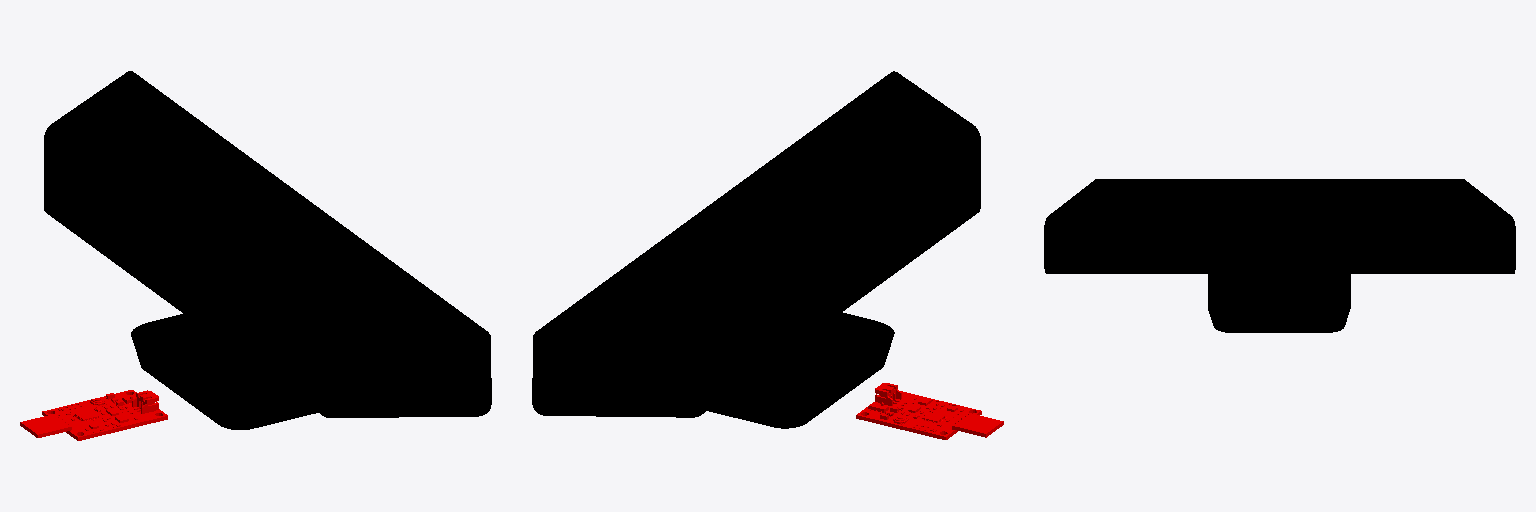
The robot description file, URDF, robot "cambot":
<!-- description of the Canyonero robot, a robotics project for the UVic-UCC master -->
<robot name = "cambot">

	<!-- BASE-FOOTPRINT -->
	<!-- base_footprint is a fictitious link(frame) that is on the ground right below base_link origin, navigation stack depends on this frame -->
	<link name = "base_footprint"/>

	<joint name = "base_footprint_joint" type = "fixed">
		<parent link = "base_footprint"/>
		<child link = "base_link"/>
		<origin xyz = "0 0 1.67" rpy = "0 0 0"/>
	</joint>

	<!-- BASE-LINK -->
    <!--Actual body/chassis of the robot-->
	<link name = "base_link">
		<visual>
			<origin xyz = "0 0 0" rpy = "0 0 0"/>
			<geometry>
				<mesh filename = "package://canyonero_description/meshes/canyonero_plates.stl"/>
			</geometry>
			<material name = "cambot/red">
				<color rgba = "1.0 0.0 0.0 1"/>
			</material>
		</visual>
		<!--collision>
      		<origin xyz = "0 0 0.12" rpy = "1.57 0 3.14"/>
      		<geometry>
        		<mesh filename = "package://cambot_description/meshes/cambot_base_collision.stl" scale="0.01 0.01 0.01"/>
      		</geometry>
    	</collision-->
		<inertial>
      		<origin rpy = "0 0 0" xyz = "174.84e-3 117.51e-3 -218.86e-3"/>
      		<mass value = "15.23"/>
      		<!-- inertia at cm or origin?-->
      		<inertia ixx = "0.016258"
               		 ixy = "0.000432"
               		 ixz="-0.000049"
               		 iyy="0.019275"
               		 iyz="0.000048"
               		 izz="0.016834"/>
    	</inertial>
	</link>

	<!-- WHEEL-JOINTS -->
	<joint name = "base_to_frontal_left_wheel" type = "continuous">
		<parent link = "base_link"/>
		<child link = "frontal_left_wheel_link"/>
		<origin xyz = "1.62 1.65 -0.68" rpy = "-1.57 0 0"/>
		<axis xyz = "0 0 1"/>
	</joint>

	<joint name = "base_to_frontal_right_wheel" type = "continuous">
		<parent link = "base_link"/>
		<child link = "frontal_right_wheel_link"/>
		<origin xyz = "1.62 -1.65 -0.68" rpy = "1.57 0 0"/>
		<axis xyz = "0 0 1"/>
	</joint>

	<joint name = "base_to_back_left_wheel" type = "continuous">
		<parent link = "base_link"/>
		<child link = "back_left_wheel_link"/>
		<origin xyz = "-1.62 1.65 -0.68" rpy = "-1.57 0 0"/>
		<axis xyz = "0 0 1"/>
	</joint>

	<joint name = "base_to_back_right_wheel" type = "continuous">
		<parent link = "base_link"/>
		<child link = "back_right_wheel_link"/>
		<origin xyz = "-1.62 -1.65 -0.68" rpy = "1.57 0 0"/>
		<axis xyz = "0 0 1"/>
	</joint>

	<!-- KINECT-JOINT -->
	<joint name = "base_link_to_kinect" type = "fixed">
		<parent link = "base_link" />
		<child link = "kinect_link" />
		<origin xyz = "2.62 0 1.41" rpy = "0 0 0"/>
	</joint>

	<!-- IMU-JOINT -->
	<joint name = "base_link_to_imu" type = "fixed">
		<parent link = "base_link" />
		<child link = "imu_link" />
		<origin xyz = "1.885 0 1.08" rpy = "0 0 -1.57"/>
	</joint>

	<!-- WHEEL-LINKS -->
    <!--Actual wheels of the robot-->

	<link name = "frontal_left_wheel_link">
		<visual>
			<origin xyz = "0 0 0" rpy = "0 -1.57 0"/>
			<geometry>
				<mesh filename = "package://canyonero_description/meshes/canyonero_wheel.stl"/>
			</geometry>
			<material name = "cambot/black">
				<color rgba = "0.0 0.0 0.0 1.0"/>
			</material>
		</visual>
		<!--collision>
      		<origin xyz = "0 0 0.12" rpy = "1.57 0 3.14"/>
      		<geometry>
        		<mesh filename = "package://cambot_description/meshes/cambot_base_collision.stl" scale="0.01 0.01 0.01"/>
      		</geometry>
    	</collision-->
		<inertial>
      		<origin rpy = "0 0 0" xyz = "40.51e-3 38.66e-3 -54.98e-3"/>
      		<mass value = "15.23"/>
      		<!-- inertia at cm or origin?-->
      		<inertia ixx = "0.016258"
               		 ixy = "0.000432"
               		 ixz="-0.000049"
               		 iyy="0.019275"
               		 iyz="0.000048"
               		 izz="0.016834"/>
    	</inertial>
	</link>

	<link name = "frontal_right_wheel_link">
		<visual>
			<origin xyz = "0 0 0" rpy = "0 -1.57 0"/>
			<geometry>
				<mesh filename = "package://canyonero_description/meshes/canyonero_wheel.stl"/>
			</geometry>
			<material name = "cambot/black">
				<color rgba = "0.0 0.0 0.0 1.0"/>
			</material>
		</visual>
		<!--collision>
      		<origin xyz = "0 0 0.12" rpy = "1.57 0 3.14"/>
      		<geometry>
        		<mesh filename = "package://cambot_description/meshes/cambot_base_collision.stl" scale="0.01 0.01 0.01"/>
      		</geometry>
    	</collision-->
		<inertial>
      		<origin rpy = "0 0 0" xyz = "40.51e-3 38.66e-3 -54.98e-3"/>
      		<mass value = "15.23"/>
      		<!-- inertia at cm or origin?-->
      		<inertia ixx = "0.016258"
               		 ixy = "0.000432"
               		 ixz="-0.000049"
               		 iyy="0.019275"
               		 iyz="0.000048"
               		 izz="0.016834"/>
    	</inertial>
	</link>

	<link name = "back_left_wheel_link">
		<visual>
			<origin xyz = "0 0 0" rpy = "0 -1.57 0"/>
			<geometry>
				<mesh filename = "package://canyonero_description/meshes/canyonero_wheel.stl"/>
			</geometry>
			<material name = "cambot/black">
				<color rgba = "0.0 0.0 0.0 1.0"/>
			</material>
		</visual>
		<!--collision>
      		<origin xyz = "0 0 0.12" rpy = "1.57 0 3.14"/>
      		<geometry>
        		<mesh filename = "package://cambot_description/meshes/cambot_base_collision.stl" scale="0.01 0.01 0.01"/>
      		</geometry>
    	</collision-->
		<inertial>
      		<origin rpy = "0 0 0" xyz = "40.51e-3 38.66e-3 -54.98e-3"/>
      		<mass value = "15.23"/>
      		<!-- inertia at cm or origin?-->
      		<inertia ixx = "0.016258"
               		 ixy = "0.000432"
               		 ixz="-0.000049"
               		 iyy="0.019275"
               		 iyz="0.000048"
               		 izz="0.016834"/>
    	</inertial>
	</link>

	<link name = "back_right_wheel_link">
		<visual>
			<origin xyz = "0 0 0" rpy = "0 -1.57 0"/>
			<geometry>
				<mesh filename = "package://canyonero_description/meshes/canyonero_wheel.stl"/>
			</geometry>
			<material name = "cambot/black">
				<color rgba = "0.0 0.0 0.0 1.0"/>
			</material>
		</visual>
		<!--collision>
      		<origin xyz = "0 0 0.12" rpy = "1.57 0 3.14"/>
      		<geometry>
        		<mesh filename = "package://cambot_description/meshes/cambot_base_collision.stl" scale="0.01 0.01 0.01"/>
      		</geometry>
    	</collision-->
		<inertial>
      		<origin rpy = "0 0 0" xyz = "40.51e-3 38.66e-3 -54.98e-3"/>
      		<mass value = "15.23"/>
      		<!-- inertia at cm or origin?-->
      		<inertia ixx = "0.016258"
               		 ixy = "0.000432"
               		 ixz="-0.000049"
               		 iyy="0.019275"
               		 iyz="0.000048"
               		 izz="0.016834"/>
    	</inertial>
	</link>

	<!-- KINECT-LINK -->
	<!-- Actual kinect of the robot -->
	<link name = "kinect_link">
		<visual>
			<origin xyz = "0 0 0" rpy = "1.57 0 1.57" />
			<geometry>
				<mesh filename = "package://canyonero_description/meshes/kinect.stl"/>
			</geometry>
			<material name = "cambot/black">
				<color rgba = "0.0 0.0 0.0 1.0" />
			</material>
		</visual>
		<!--collision>
      		<origin xyz = "0 0 0.12" rpy = "1.57 0 3.14"/>
      		<geometry>
        		<mesh filename = "package://cambot_description/meshes/cambot_base_collision.stl" scale="0.01 0.01 0.01"/>
      		</geometry>
    	</collision-->
		<inertial>
      		<origin rpy = "0 0 0" xyz = "7.035e-3 -70.134e-3 -87.744e-3"/>
      		<mass value = "0.0458425"/>
      		<inertia ixx = "0.001351"
               ixy = "0.000000"
               ixz="0.000000"
               iyy="0.000886"
               iyz="-0.000026"
               izz="0.001635"/>
    	</inertial>
	</link>

	<!-- IMU-LINK -->
	<!-- Actual imu of the robot -->
	<link name = "imu_link">
		<visual>
			<origin xyz = "0 0 0" rpy = "0 0 0" />
			<geometry>
				<mesh filename = "package://canyonero_description/meshes/9dof_razor_imu.stl"/>
			</geometry>
			<material name = "cambot/vermell">
				<color rgba = "1.0 0.0 0.0 1.0" />
			</material>
		</visual>
		<!--collision>
      		<origin xyz = "0 0 0.12" rpy = "1.57 0 3.14"/>
      		<geometry>
        		<mesh filename = "package://cambot_description/meshes/cambot_base_collision.stl" scale="0.01 0.01 0.01"/>
      		</geometry>
    	</collision-->
		<inertial>
      		<origin rpy = "0 0 0" xyz = "7.035e-3 -70.134e-3 -87.744e-3"/>
      		<mass value = "0.0458425"/>
      		<inertia ixx = "0.001351"
               ixy = "0.000000"
               ixz="0.000000"
               iyy="0.000886"
               iyz="-0.000026"
               izz="0.001635"/>
    	</inertial>
	</link>

</robot>

--- What the picture shows (computed from the rendered views, not written in the file) ---
3 views of the same robot in one strip: view 1: azimuth 30°, elevation 25°; view 2: azimuth 150°, elevation 25°; view 3: azimuth 270°, elevation 25° (orthographic).
Robot: cambot — 8 links, 7 joints (4 continuous, 3 fixed); root link base_footprint; default pose: all joints at 0.
Visible links, largest first — view 1: kinect_link, imu_link; view 2: kinect_link, imu_link; view 3: kinect_link.
Link boxes in pixels (box(x1,y1,x2,y2)): kinect_link: box(44, 71, 491, 429); imu_link: box(20, 390, 167, 440); kinect_link: box(532, 71, 980, 428); imu_link: box(856, 383, 1003, 439); kinect_link: box(1044, 179, 1515, 332).
Size in the robot's own frame: 1.36 by 2.79 by 0.7282 metres.
Meshes: 4 distinct files referenced, 2 mesh visuals loaded (2 binary STL); not drawn: 5 (reference not matched to a file when rendering).